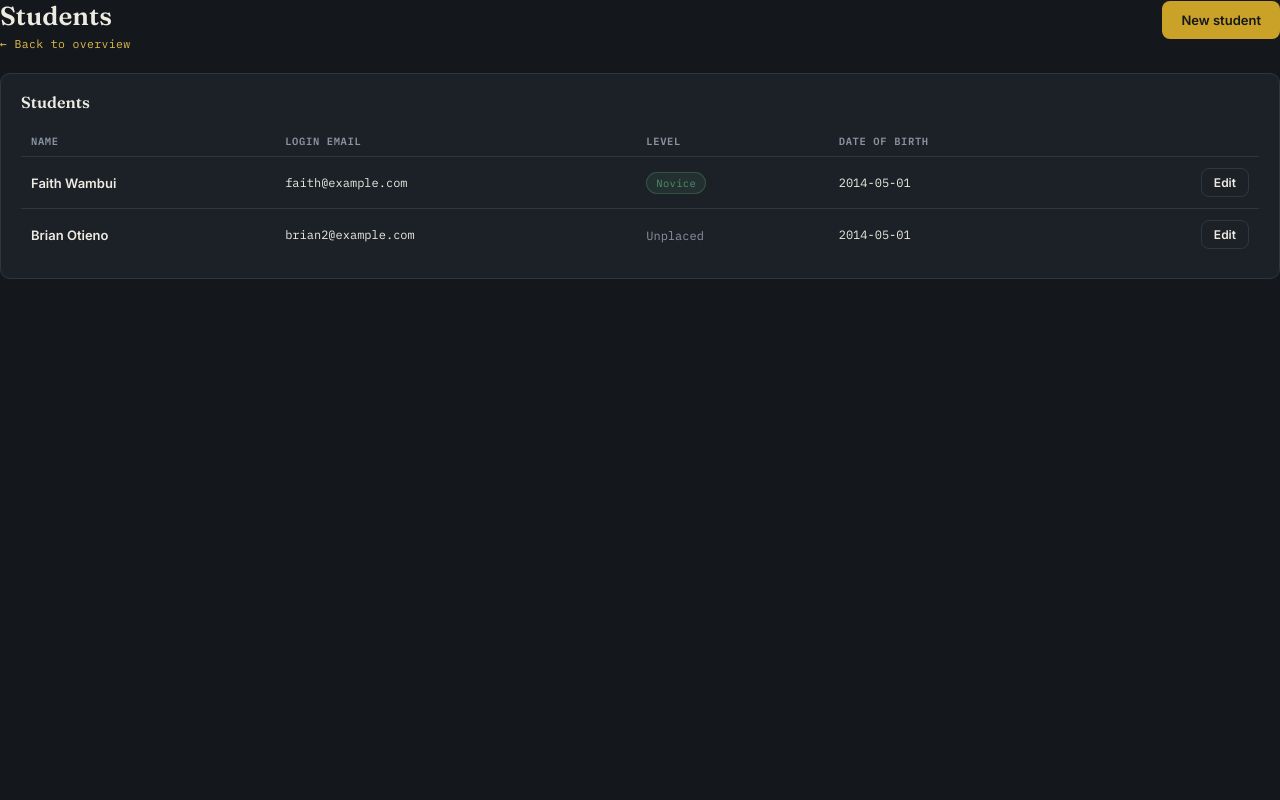
Test case: StudentsAdmin › creates a student, optionally assigning a coach, and surfaces the temp password
The width and height of the screenshot is (1280, 800).
Expected: the table is shown, left=21, top=126, right=1259, bottom=260
Click the button "New student". click: point(1221, 20)
box: left=1162, top=1, right=1279, bottom=39
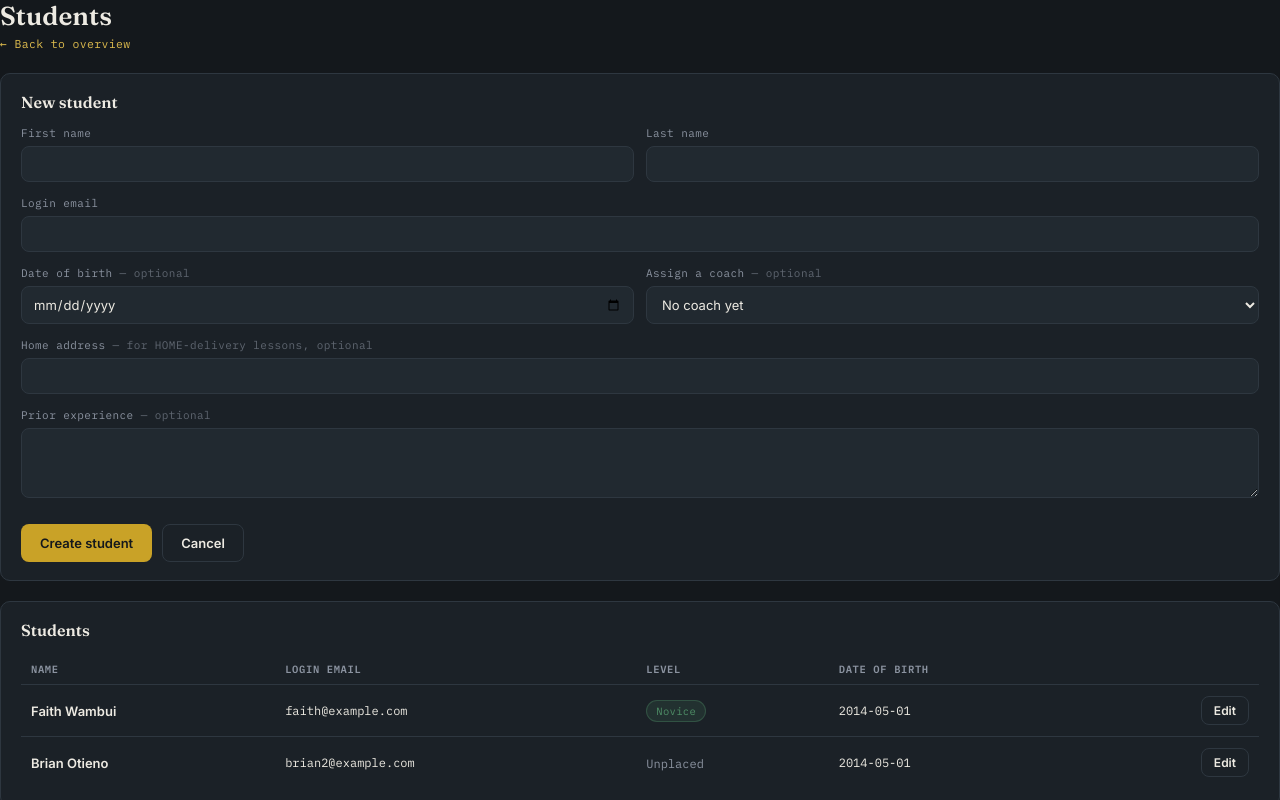
Type "New" into the field labelled "First name". click: point(328, 164)
box: left=21, top=146, right=634, bottom=182
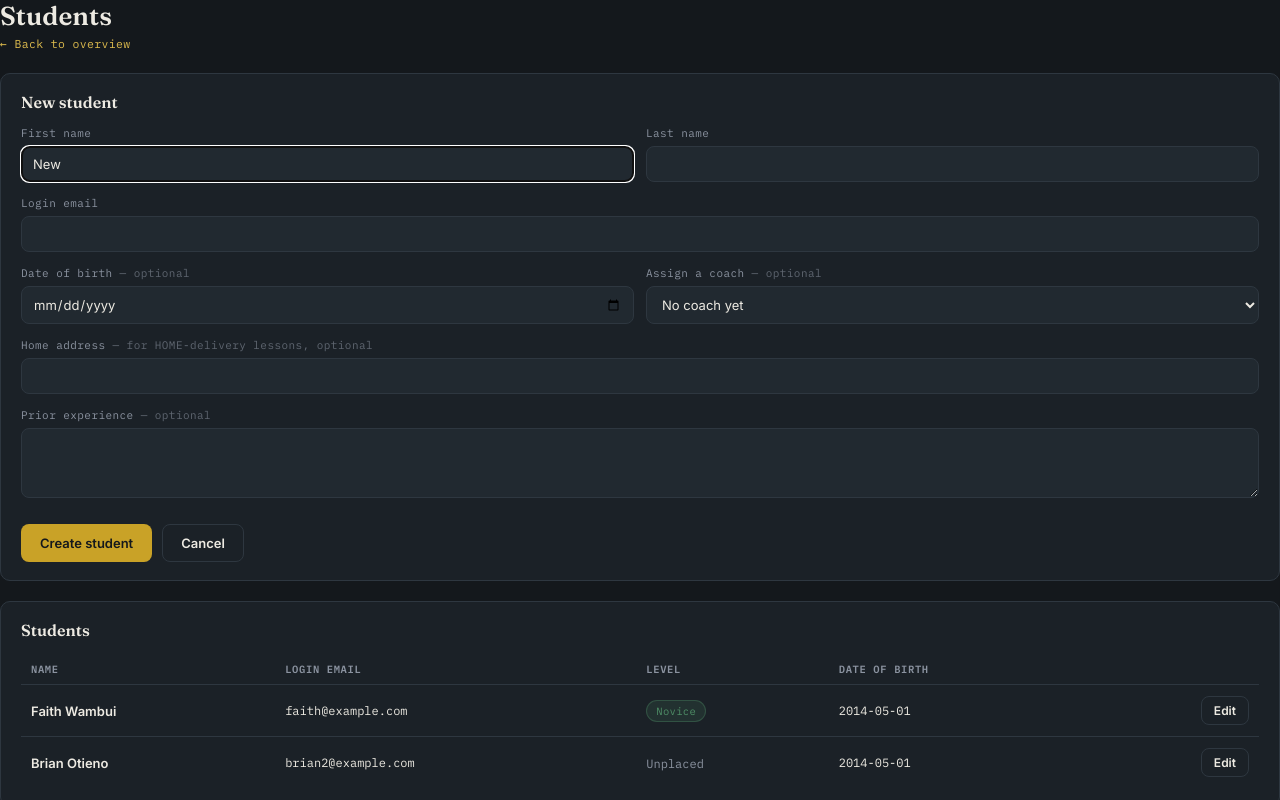
Type "Student" into the field labelled "Last name". click: point(952, 164)
box: left=646, top=146, right=1259, bottom=182
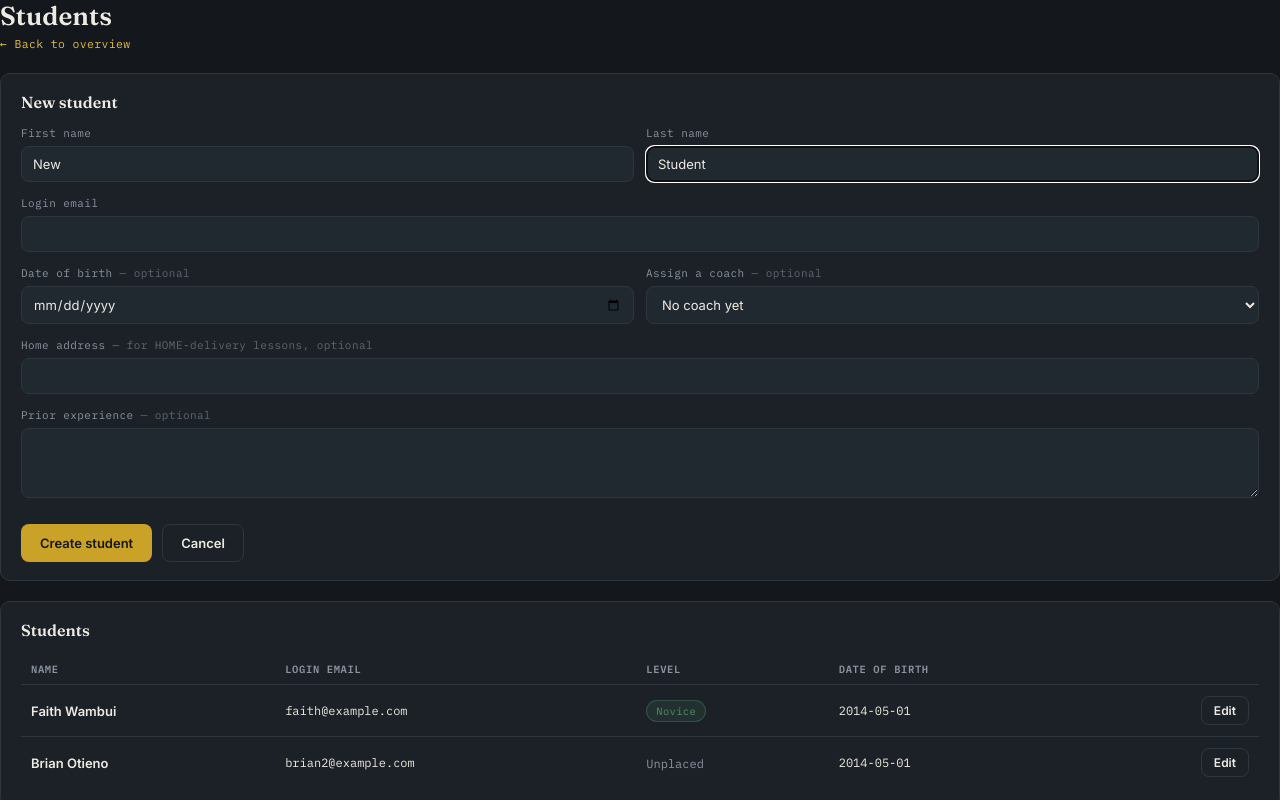
Type "new@x.com" into the field labelled "Login email". click: point(640, 234)
box: left=21, top=216, right=1259, bottom=252
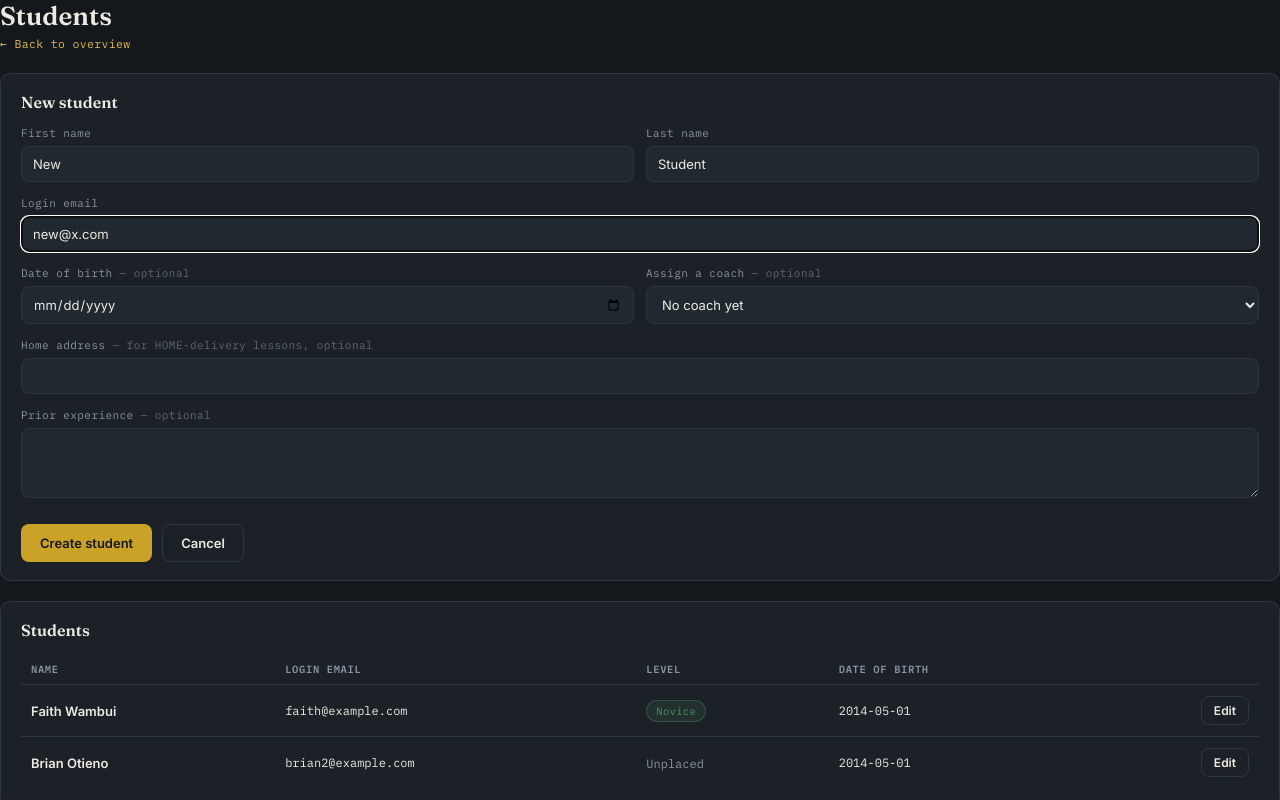
Select "Brian Otieno" in the dropdown labelled "Assign a coach — optional". click: point(952, 305)
box: left=646, top=286, right=1259, bottom=324
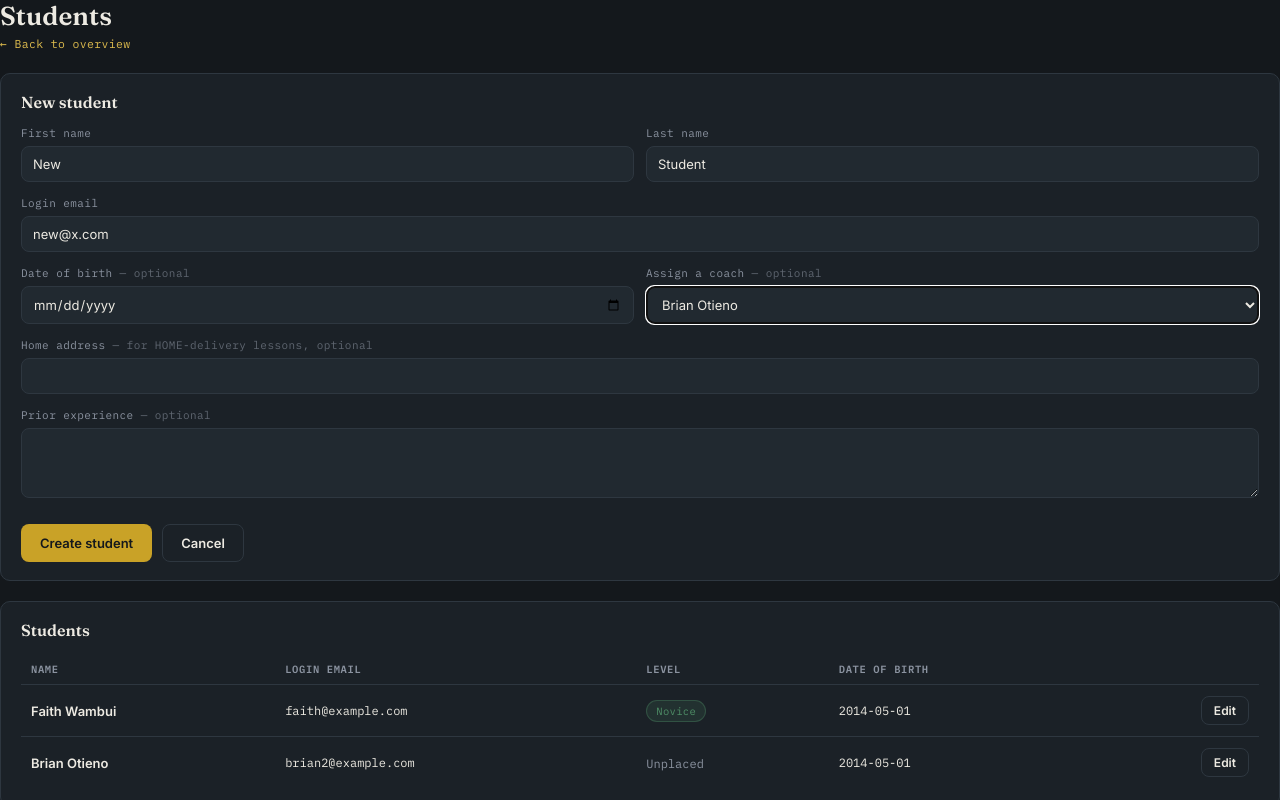
Click the button "Create student". click: point(87, 543)
box: left=21, top=524, right=152, bottom=562
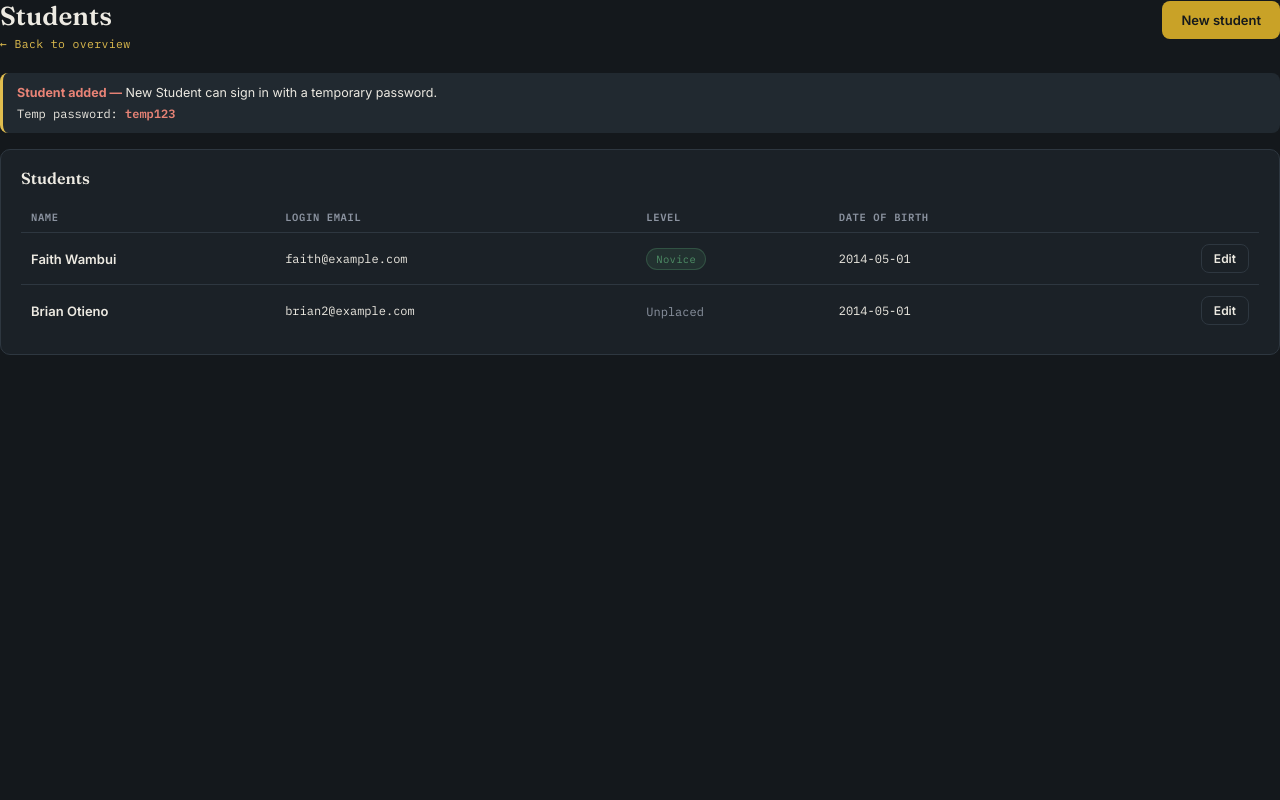
Expected: the text "Temp password: temp123" is shown, left=17, top=106, right=175, bottom=121
